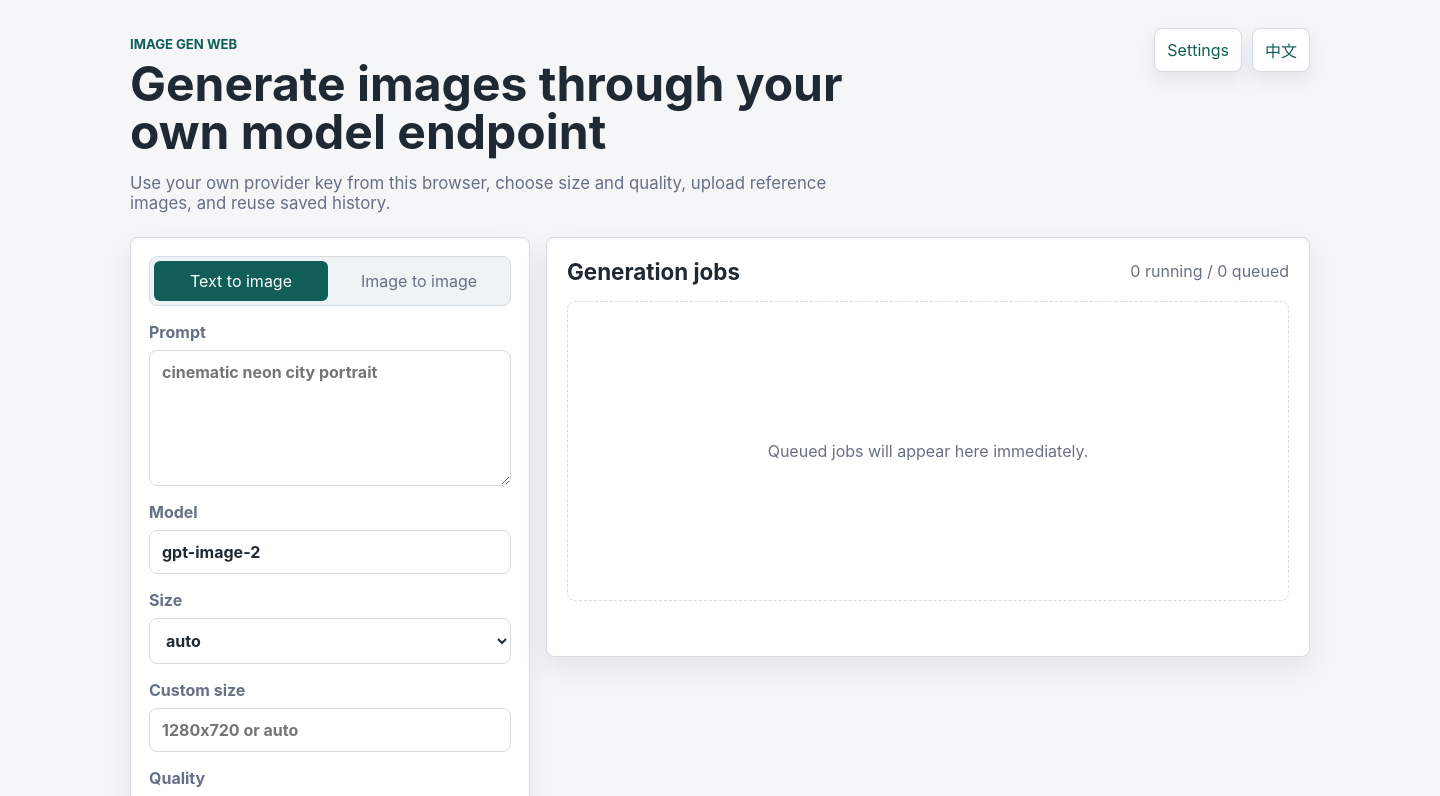
Test: App › saves customer provider settings locally without updating server settings
The image size is (1440, 796).
Expected: the field showing "gpt-image-2" is shown, [149,530,511,574]
Click the button "Settings".
click(1198, 50)  # box [1154,28,1242,72]
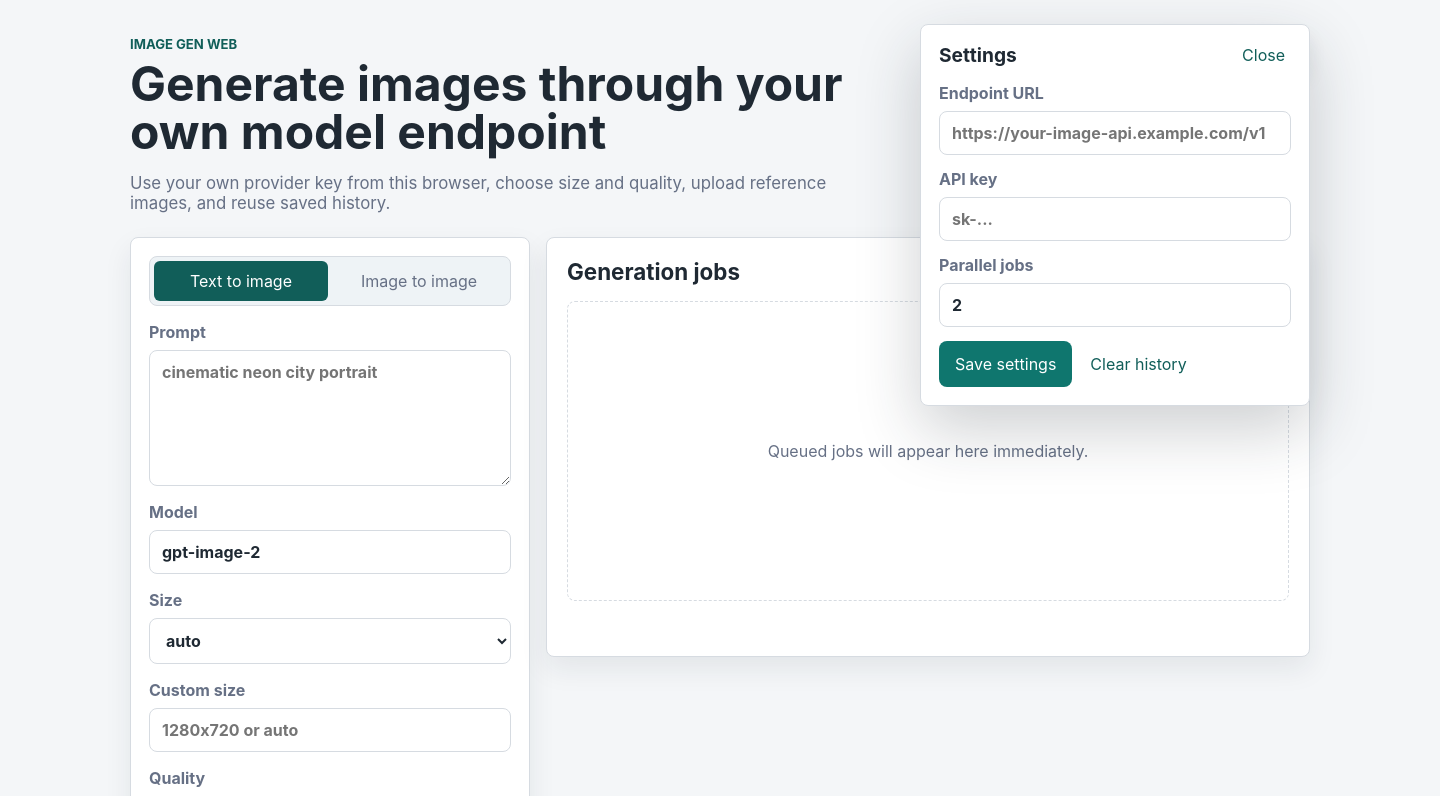
Type "https://api.example.com/v1/images/generations" into the field labelled "Endpoint URL".
click(1115, 133); type("https://api.example.com/v1/images/generations")  # box [939,111,1291,155]
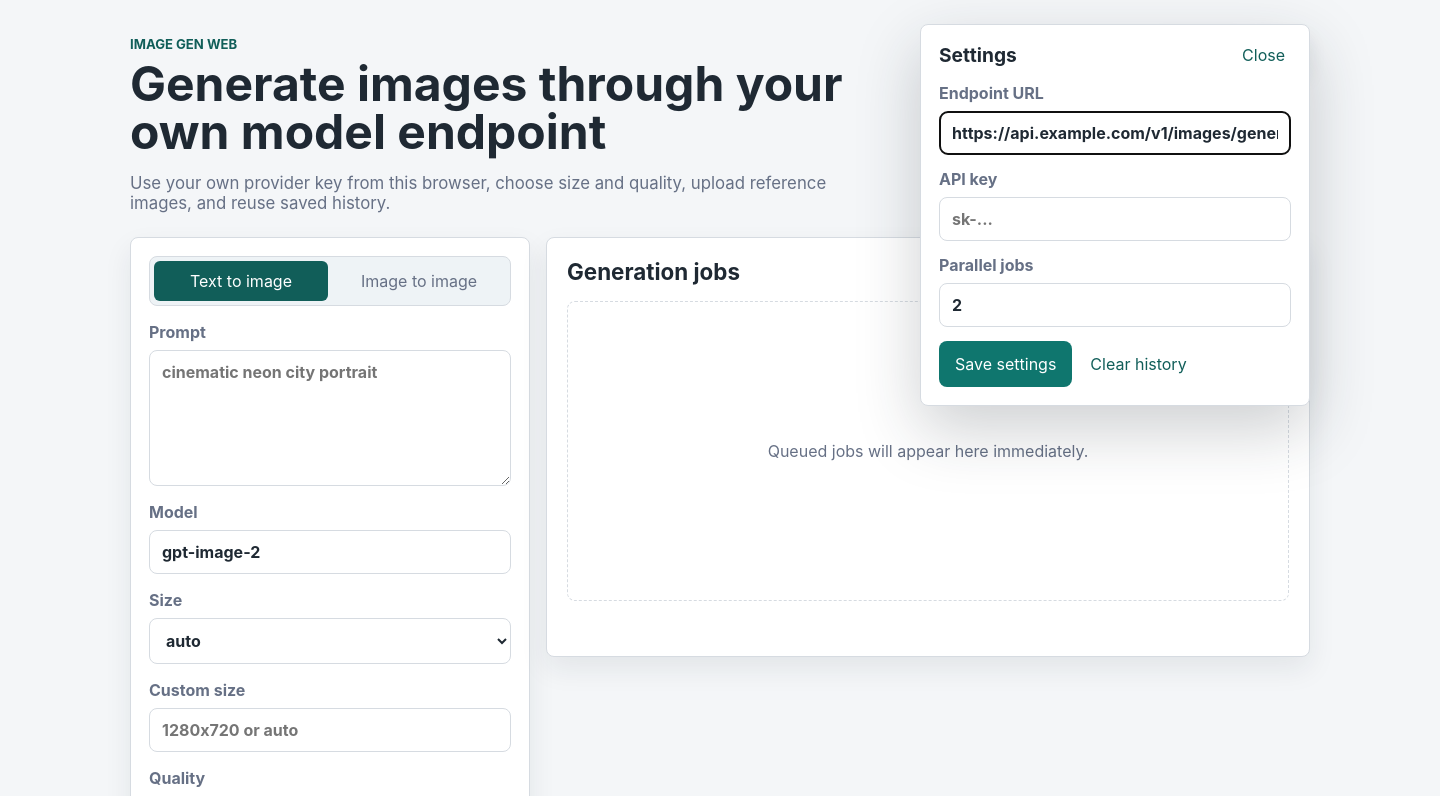
Type "sk-test-secret" into the password field labelled "API key".
click(1115, 219); type("sk-test-secret")  # box [939,197,1291,241]
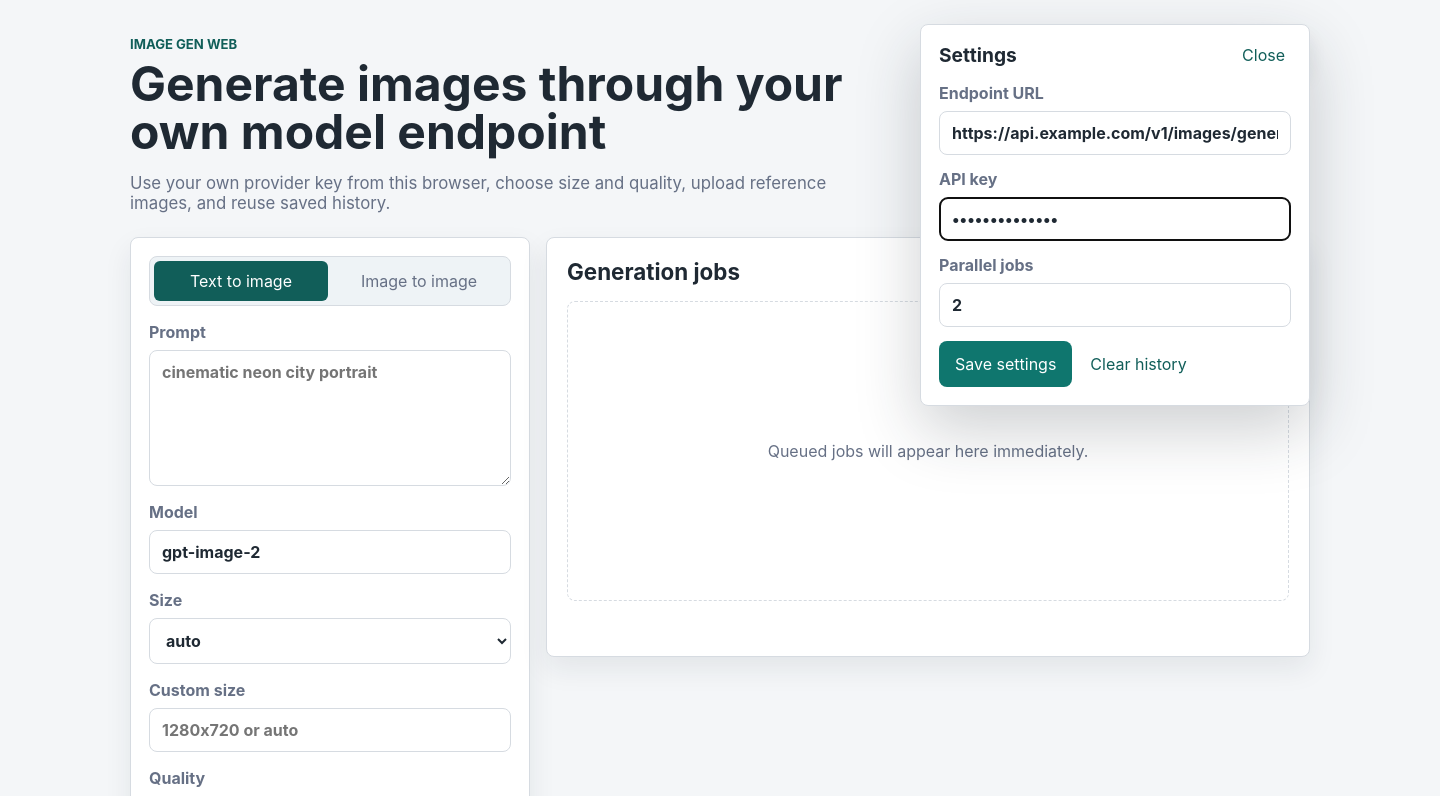
Replace the text in the number field labelled "Parallel jobs" with "5" at {"x": 1115, "y": 305}, box [939,283,1291,327]
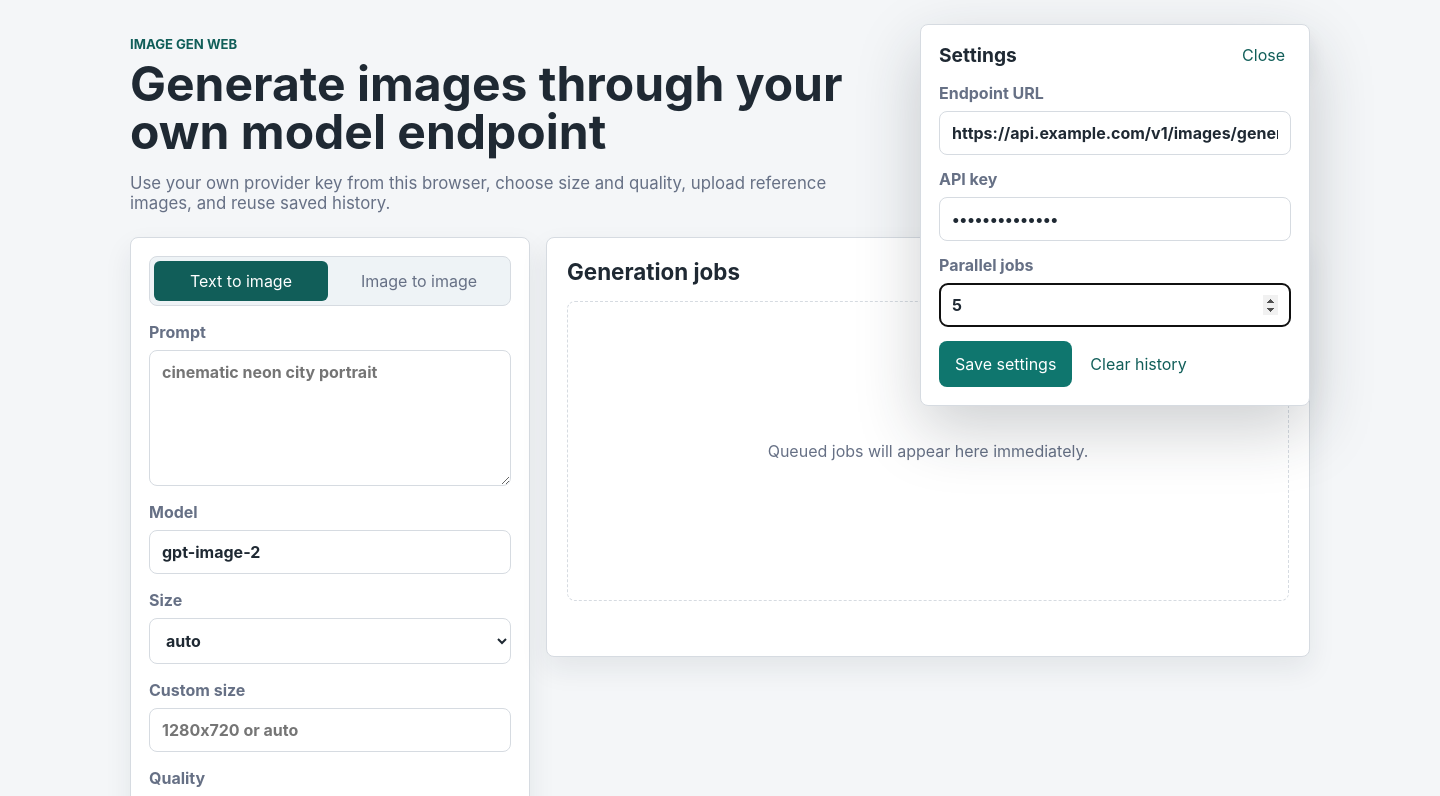
Click the button "Save settings".
click(1006, 364)  # box [939,341,1072,387]
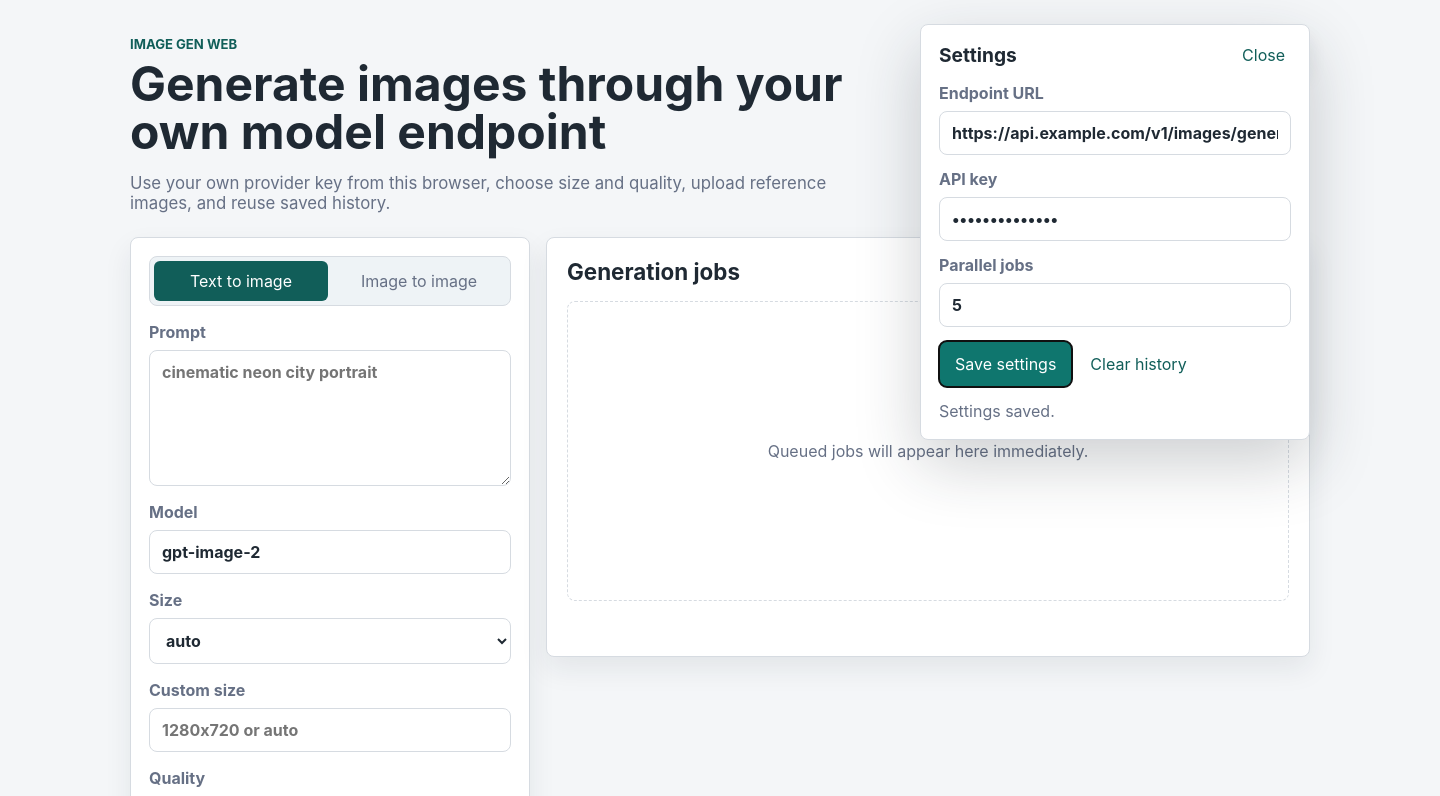
Expected: the text "Settings saved." is shown, [939,401,1055,421]
